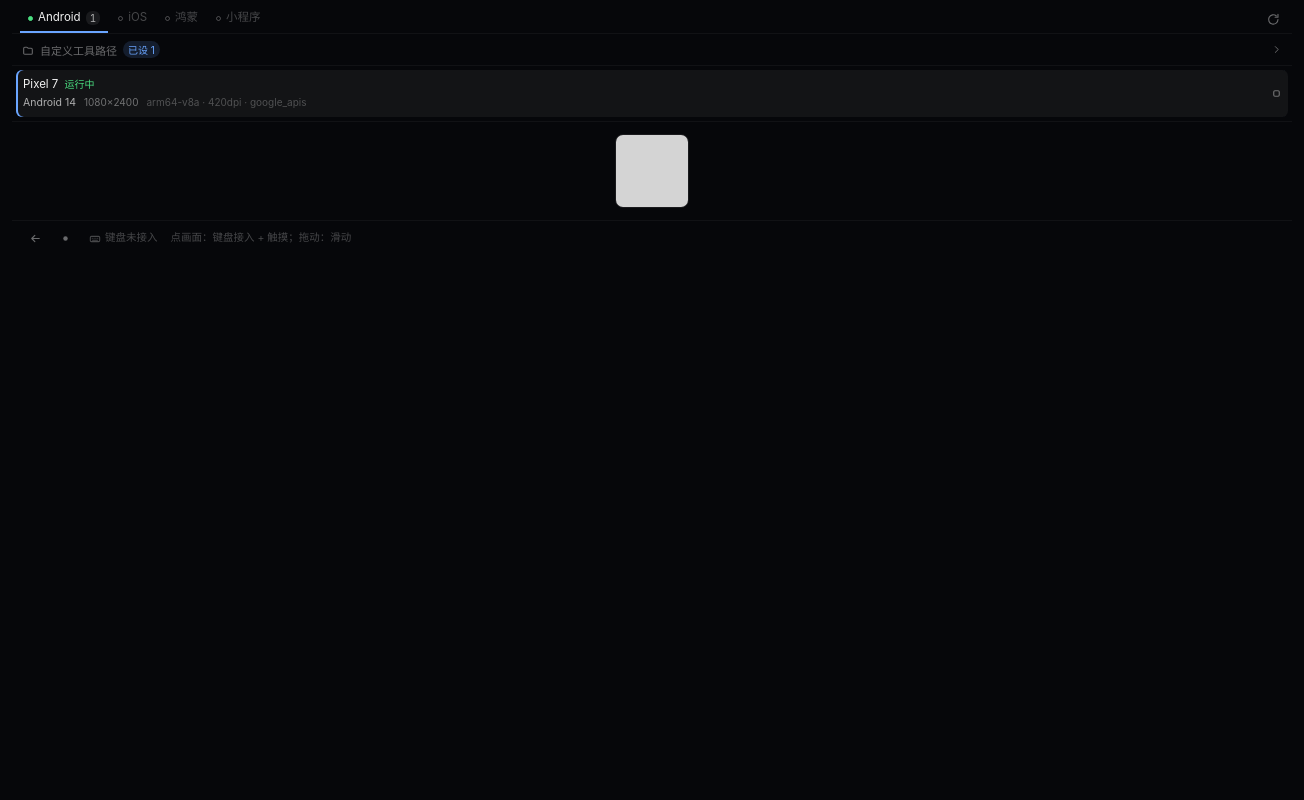
自定义工具路径 › 面板挂载时读取设置（入口存在且带得出当前值）
Click the button with class "sim-paths-toggle" at point(78, 50), box [12,34,1292,65]
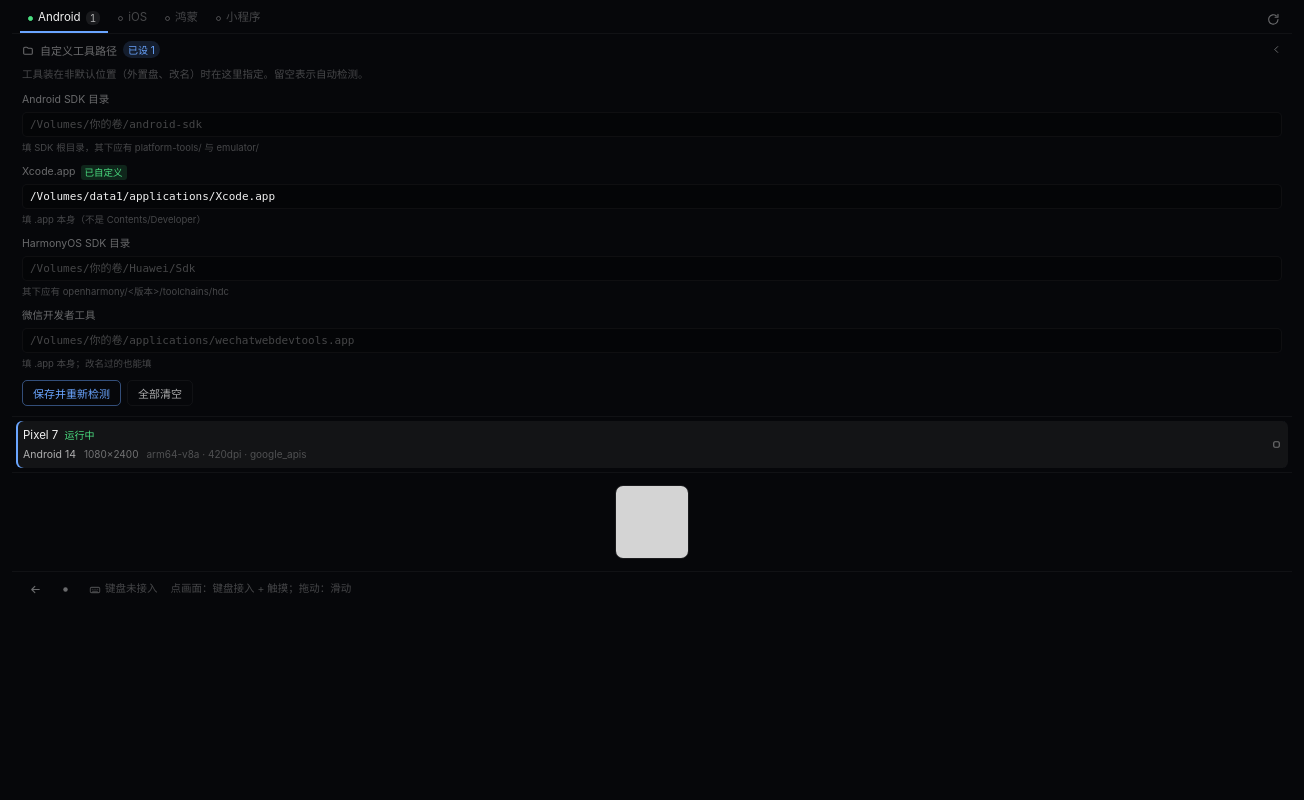
Expected: the text with class "sim-paths-count" shows "1", [151,44,155,56]
Result: the field labelled "Xcode.app 已自定义 填 .app 本身（不是 Contents/Developer）" holds "/Volumes/data1/applications/Xcode.app" at [22,184,1282,209]
